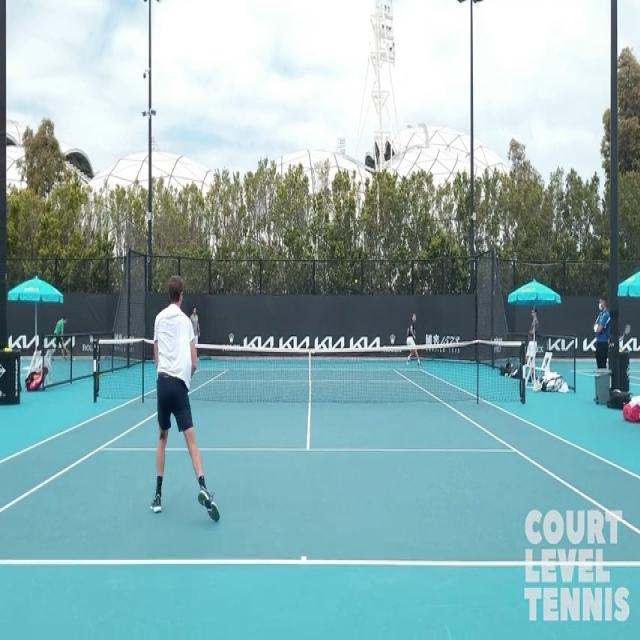ready-position: (129, 270, 227, 526)
